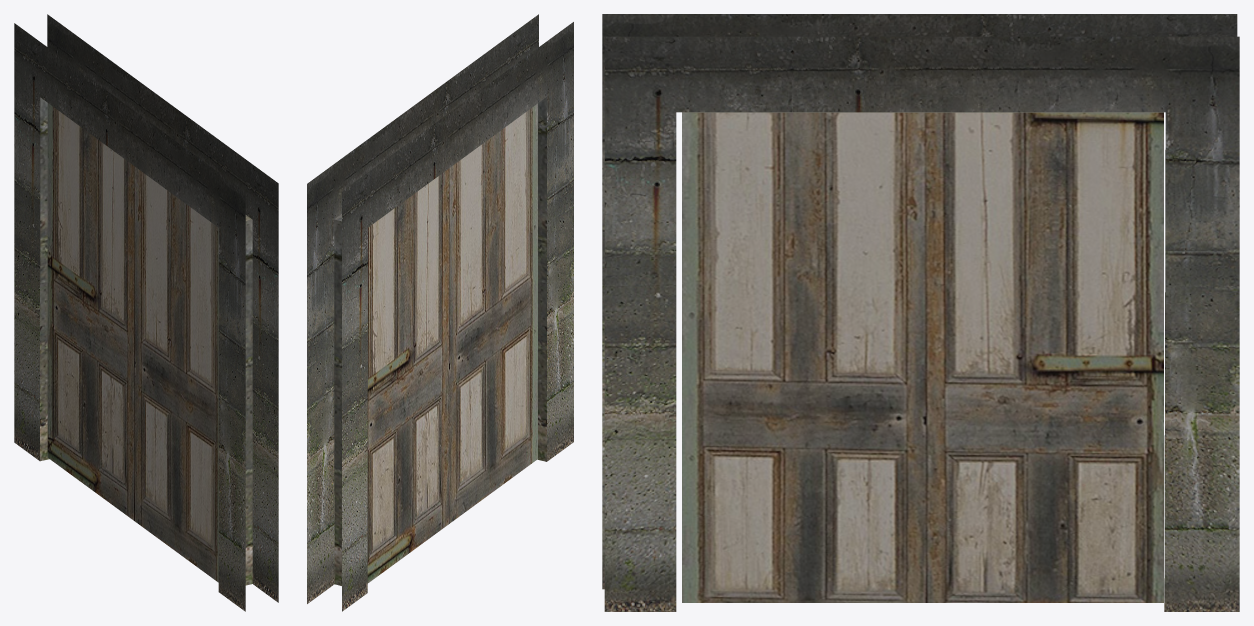
Rendered from Door.dae.
3 views of the same model, side by side, from view 1: azimuth 30°, elevation 25°; view 2: azimuth 150°, elevation 25°; view 3: azimuth 270°, elevation 25° (orthographic). The views are drawn at different scales.
Parts seen in each view (by area): view 1: Door, DoorFrame; view 2: Door, DoorFrame; view 3: Door, DoorFrame.
Boxes of the visible parts, <box> form: Door: <box>47,103,218,582</box>; DoorFrame: <box>14,14,278,611</box>; Door: <box>367,103,537,583</box>; DoorFrame: <box>307,14,573,611</box>; Door: <box>682,112,1163,602</box>; DoorFrame: <box>602,14,1239,611</box>.
Bounding box in the file's own units: 0.1685 × 2.01 × 2.
Materials: 1 (1 with a texture image).
